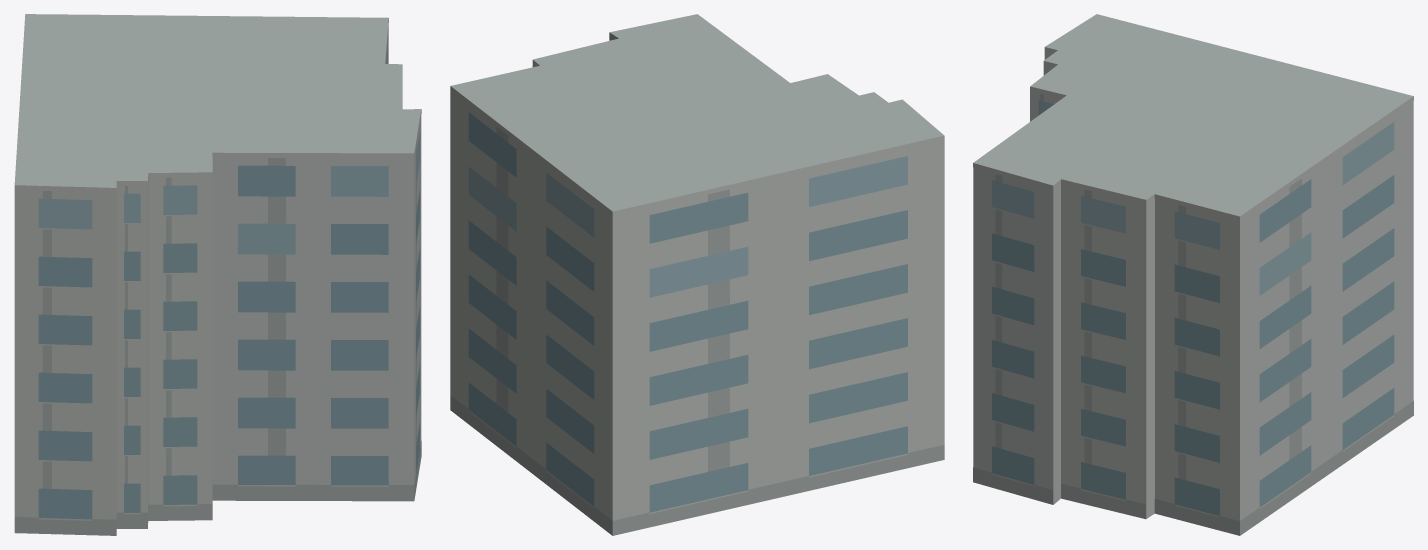
File: survey-upis-32812303.glb
The picture shows the model from 3 angles, left to right: view 1: azimuth 30°, elevation 25°; view 2: azimuth 150°, elevation 25°; view 3: azimuth 270°, elevation 25°; orthographic projection. The views are drawn at different scales.
Visible parts, largest first — view 1: survey-upis-32812303.tmp; view 2: survey-upis-32812303.tmp; view 3: survey-upis-32812303.tmp.
Boxes of the visible parts, <box> form: survey-upis-32812303.tmp: <box>14,14,421,535</box>; survey-upis-32812303.tmp: <box>450,14,944,535</box>; survey-upis-32812303.tmp: <box>973,14,1413,535</box>.
Size of the model in its own units: 23.14 by 17.01 by 21.28.
